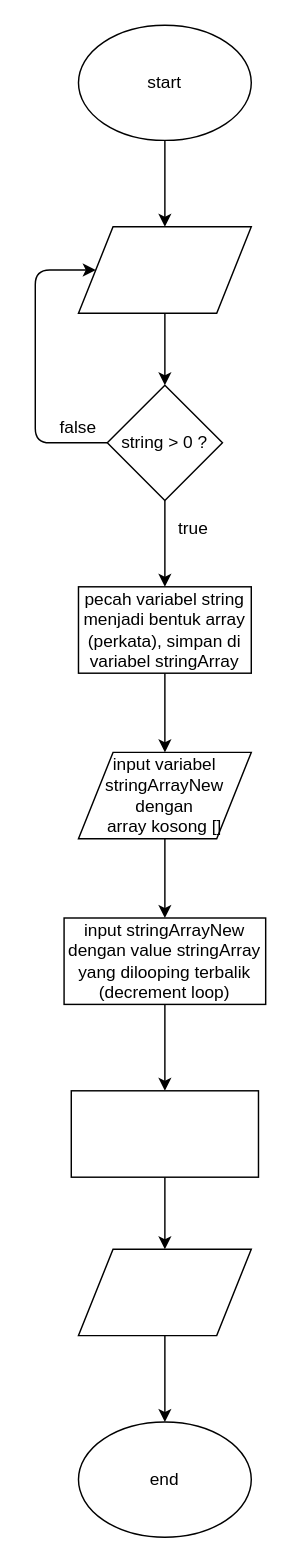
Image size: 291x1562. Some labels were removed from this diagram. The box of each missing label's shape, as (x1, y1, x2, y2) in pixels:
input variabel string1: (77, 225, 251, 313)
konversi stringArrayNew dari array ke string, simpan di variabel string2: (70, 1089, 258, 1177)
output variabel string2: (77, 1248, 251, 1336)
